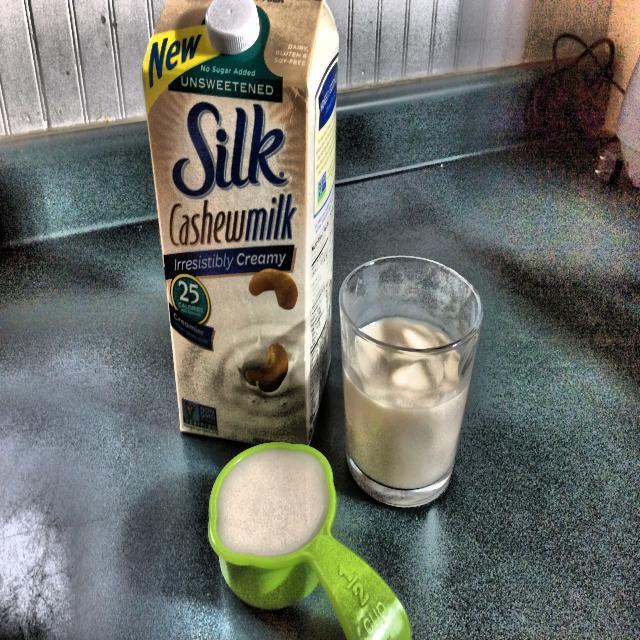cardboard: (142, 0, 338, 446)
